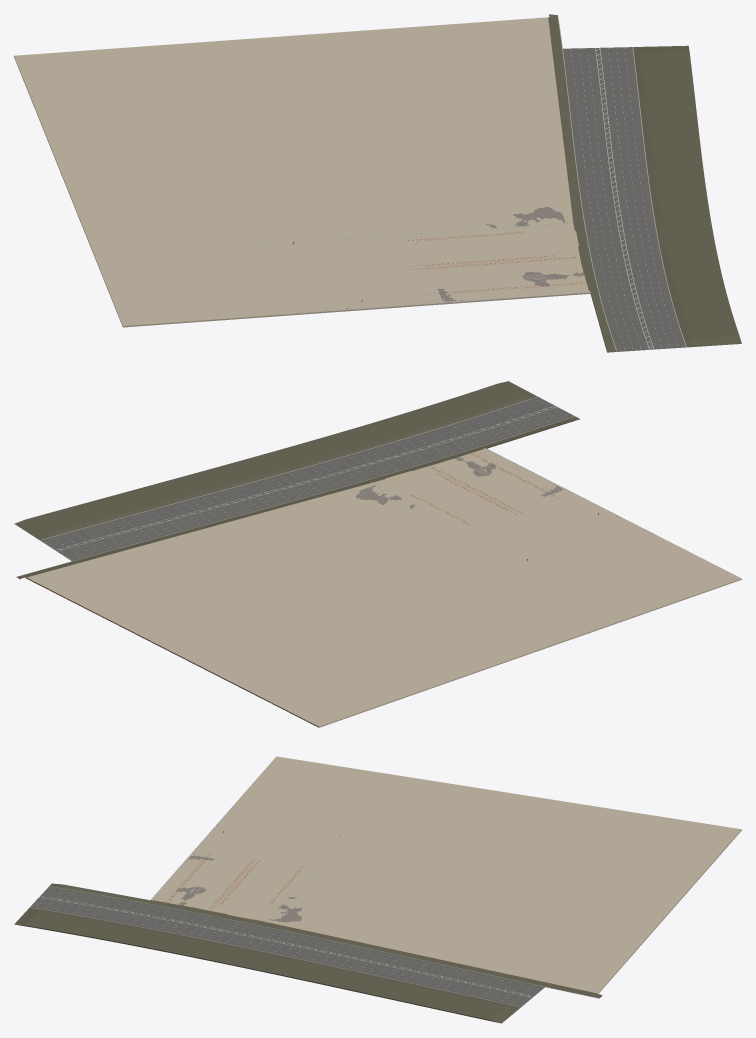
Rendered from site_ground.glb.
The picture shows the model from 3 angles, top to bottom: view 1: azimuth 30°, elevation 25°; view 2: azimuth 150°, elevation 25°; view 3: azimuth 270°, elevation 25°; orthographic projection. The views are drawn at different scales.
Visible parts, largest first — view 1: SITE_GROUND|Yard slab, SITE_GROUND|Main road carriageway, SITE_GROUND|Main road far verge (grass), SITE_GROUND|Main road near verge (grass), SITE_GROUND|Main road lane lines + median markings, SITE_GROUND|Yard slab edge skirts, SITE_GROUND|Damp patches, SITE_GROUND|Trench drain covers (precast), SITE_GROUND|Main road kerbs; view 2: SITE_GROUND|Yard slab, SITE_GROUND|Main road carriageway, SITE_GROUND|Main road far verge (grass), SITE_GROUND|Main road near verge (grass), SITE_GROUND|Yard slab edge skirts, SITE_GROUND|Main road kerbs, SITE_GROUND|Main road lane lines + median markings, SITE_GROUND|Damp patches, SITE_GROUND|Trench drain covers (precast); view 3: SITE_GROUND|Yard slab, SITE_GROUND|Main road carriageway, SITE_GROUND|Main road far verge (grass), SITE_GROUND|Main road near verge (grass), SITE_GROUND|Main road kerbs, SITE_GROUND|Main road lane lines + median markings, SITE_GROUND|Main road far verge edge skirt, SITE_GROUND|Damp patches, SITE_GROUND|Trench drain covers (precast), SITE_GROUND|Weed strip at hoarding foot.
Boxes of the visible parts, left/top/right/bottom form: SITE_GROUND|Yard slab: left=14, top=17, right=590, bottom=325; SITE_GROUND|Main road carriageway: left=563, top=47, right=685, bottom=351; SITE_GROUND|Main road far verge (grass): left=633, top=45, right=741, bottom=347; SITE_GROUND|Main road near verge (grass): left=549, top=14, right=616, bottom=352; SITE_GROUND|Main road lane lines + median markings: left=571, top=48, right=677, bottom=349; SITE_GROUND|Yard slab edge skirts: left=14, top=56, right=590, bottom=327; SITE_GROUND|Damp patches: left=438, top=207, right=584, bottom=301; SITE_GROUND|Trench drain covers (precast): left=244, top=222, right=589, bottom=315; SITE_GROUND|Main road kerbs: left=557, top=15, right=686, bottom=351; SITE_GROUND|Yard slab: left=27, top=448, right=741, bottom=726; SITE_GROUND|Main road carriageway: left=40, top=397, right=574, bottom=560; SITE_GROUND|Main road far verge (grass): left=14, top=381, right=537, bottom=540; SITE_GROUND|Main road near verge (grass): left=17, top=416, right=580, bottom=578; SITE_GROUND|Yard slab edge skirts: left=25, top=577, right=741, bottom=727; SITE_GROUND|Main road kerbs: left=17, top=396, right=574, bottom=576; SITE_GROUND|Main road lane lines + median markings: left=44, top=400, right=557, bottom=558; SITE_GROUND|Damp patches: left=355, top=457, right=562, bottom=509; SITE_GROUND|Trench drain covers (precast): left=371, top=448, right=659, bottom=574; SITE_GROUND|Yard slab: left=152, top=756, right=741, bottom=993; SITE_GROUND|Main road carriageway: left=30, top=886, right=544, bottom=1007; SITE_GROUND|Main road far verge (grass): left=14, top=907, right=520, bottom=1023; SITE_GROUND|Main road near verge (grass): left=49, top=883, right=601, bottom=998; SITE_GROUND|Main road kerbs: left=30, top=886, right=598, bottom=1007; SITE_GROUND|Main road lane lines + median markings: left=39, top=889, right=536, bottom=1004; SITE_GROUND|Main road far verge edge skirt: left=16, top=924, right=498, bottom=1022; SITE_GROUND|Damp patches: left=176, top=855, right=302, bottom=922; SITE_GROUND|Trench drain covers (precast): left=151, top=802, right=355, bottom=922; SITE_GROUND|Weed strip at hoarding foot: left=153, top=900, right=597, bottom=993.
Size of the model in its own units: 355 by 1.6 by 410.
